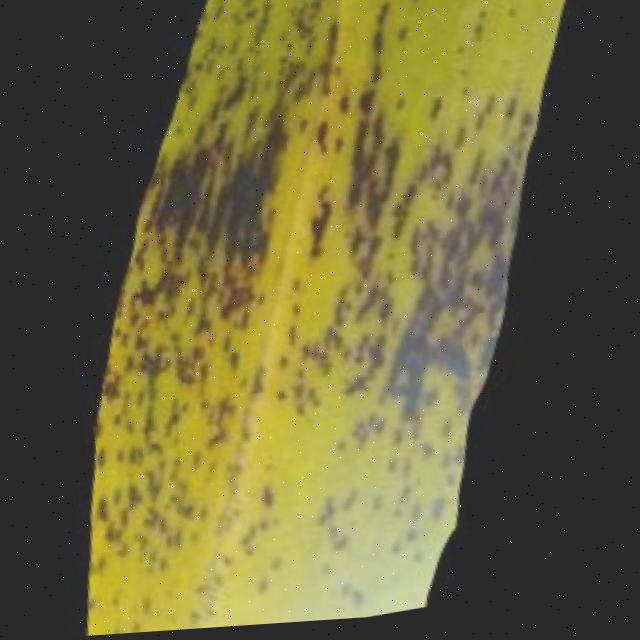mite: (396, 0, 420, 8)
spots: (1, 0, 640, 638)
